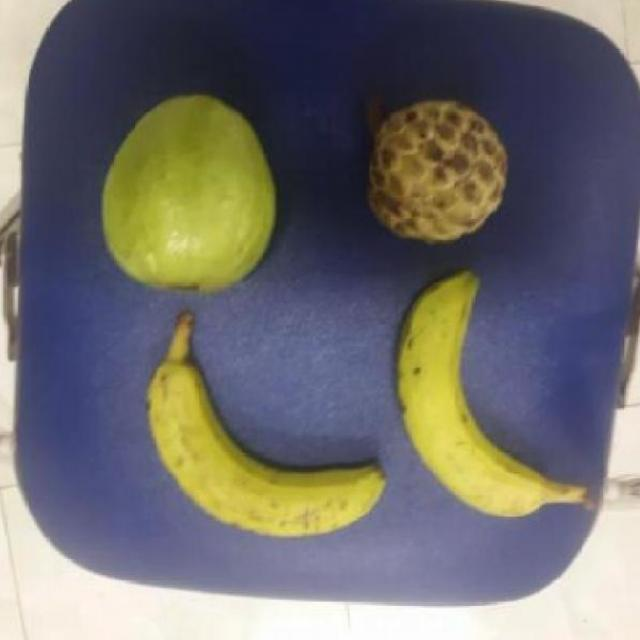banana: (141, 353, 385, 543), (394, 272, 550, 527)
guava: (100, 93, 276, 294), (362, 98, 518, 246)
